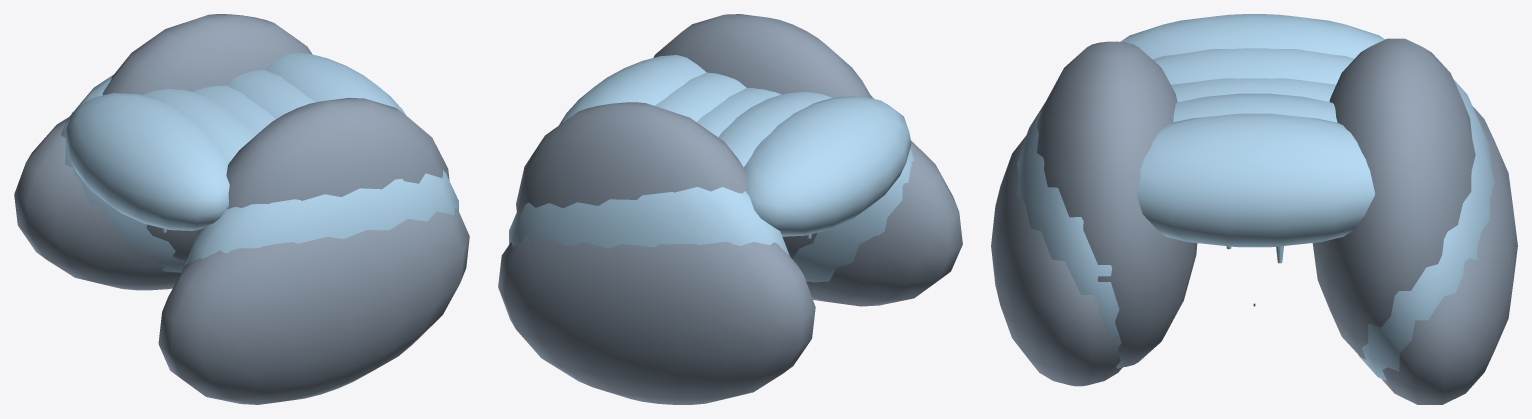
The model's file is Titan_WestGlacierVault.fbx.
3 renders of one model, left to right at view 1: azimuth 30°, elevation 25°; view 2: azimuth 150°, elevation 25°; view 3: azimuth 270°, elevation 25°, orthographic. The views are drawn at different scales.
Visible parts, largest first — view 1: WestVault_Wall_-1_0, WestVault_Roof_-2, WestVault_Wall_-1_2, WestVault_Wall_1_0, WestVault_Wall_1_2, WestVault_Wall_-1_1, WestVault_Roof_2, WestVault_Roof_-1, WestVault_Wall_1_1, WestVault_Roof_1, WestVault_Roof_0; view 2: WestVault_Wall_1_0, WestVault_Wall_1_2, WestVault_Roof_-2, WestVault_Wall_1_1, WestVault_Wall_-1_0, WestVault_Wall_-1_2, WestVault_Wall_-1_1, WestVault_Roof_2, WestVault_Roof_-1, WestVault_Roof_1, WestVault_Roof_0; view 3: WestVault_Wall_1_2, WestVault_Wall_-1_2, WestVault_Roof_2, WestVault_Wall_-1_0, WestVault_Wall_1_0, WestVault_Wall_1_1, WestVault_Roof_-2, WestVault_Wall_-1_1, WestVault_Roof_-1, WestVault_Roof_1, WestVault_Roof_0.
Boxes of the visible parts, x1,y1,x2,y2 form: WestVault_Wall_-1_0: (158,208,469,404); WestVault_Roof_-2: (64,93,229,230); WestVault_Wall_-1_2: (226,97,449,209); WestVault_Wall_1_0: (14,117,180,290); WestVault_Wall_1_2: (102,14,312,261); WestVault_Wall_-1_1: (185,170,458,265); WestVault_Roof_2: (265,52,405,114); WestVault_Roof_-1: (142,89,255,162); WestVault_Wall_1_1: (61,74,186,272); WestVault_Roof_1: (226,69,315,118); WestVault_Roof_0: (192,85,275,135); WestVault_Wall_1_0: (498,236,815,404); WestVault_Wall_1_2: (516,102,748,215); WestVault_Roof_-2: (744,96,911,236); WestVault_Wall_1_1: (509,187,789,256); WestVault_Wall_-1_0: (806,140,962,306); WestVault_Wall_-1_2: (653,14,872,258); WestVault_Wall_-1_1: (793,95,914,282); WestVault_Roof_2: (559,55,706,124); WestVault_Roof_-1: (718,92,832,167); WestVault_Roof_1: (655,72,746,121); WestVault_Roof_0: (697,88,781,136); WestVault_Wall_1_2: (1312,38,1475,359); WestVault_Wall_-1_2: (1037,41,1197,367); WestVault_Roof_2: (1136,113,1375,247); WestVault_Wall_-1_0: (991,135,1121,386); WestVault_Wall_1_0: (1382,106,1517,404); WestVault_Wall_1_1: (1358,79,1494,381); WestVault_Roof_-2: (1120,14,1384,59); WestVault_Wall_-1_1: (1017,103,1124,368); WestVault_Roof_-1: (1153,48,1353,84); WestVault_Roof_1: (1173,93,1337,122); WestVault_Roof_0: (1171,78,1335,102).
Bounding box in the file's own units: 741 × 639 × 930.
